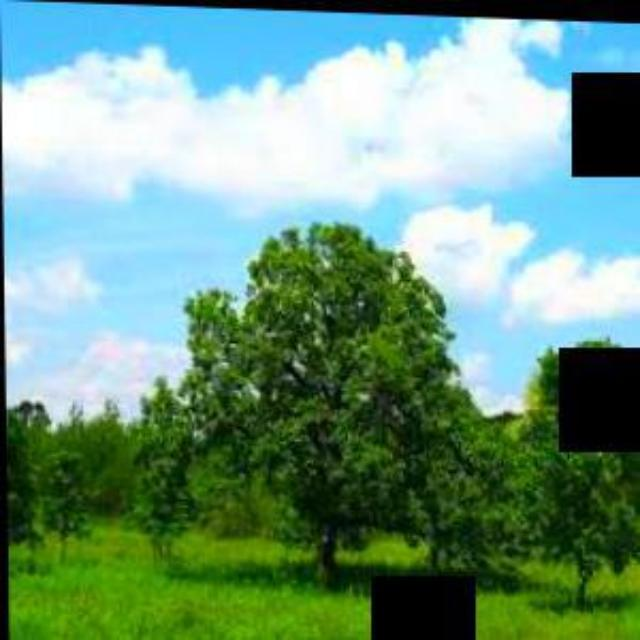tree: (181, 212, 469, 582), (522, 327, 638, 591)
